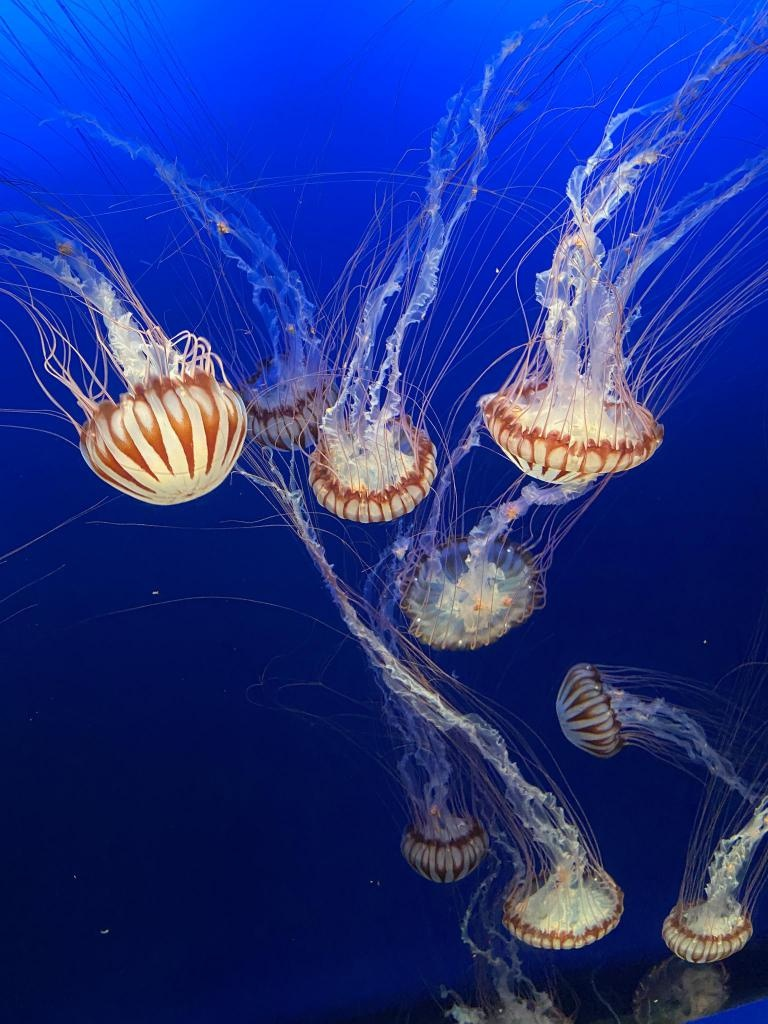jellyfish: (79, 377, 248, 505), (481, 390, 673, 484), (400, 549, 538, 645), (502, 858, 628, 950), (312, 430, 430, 518), (246, 362, 334, 444), (555, 658, 625, 758), (394, 812, 486, 882), (628, 961, 730, 1021), (658, 898, 750, 960)
